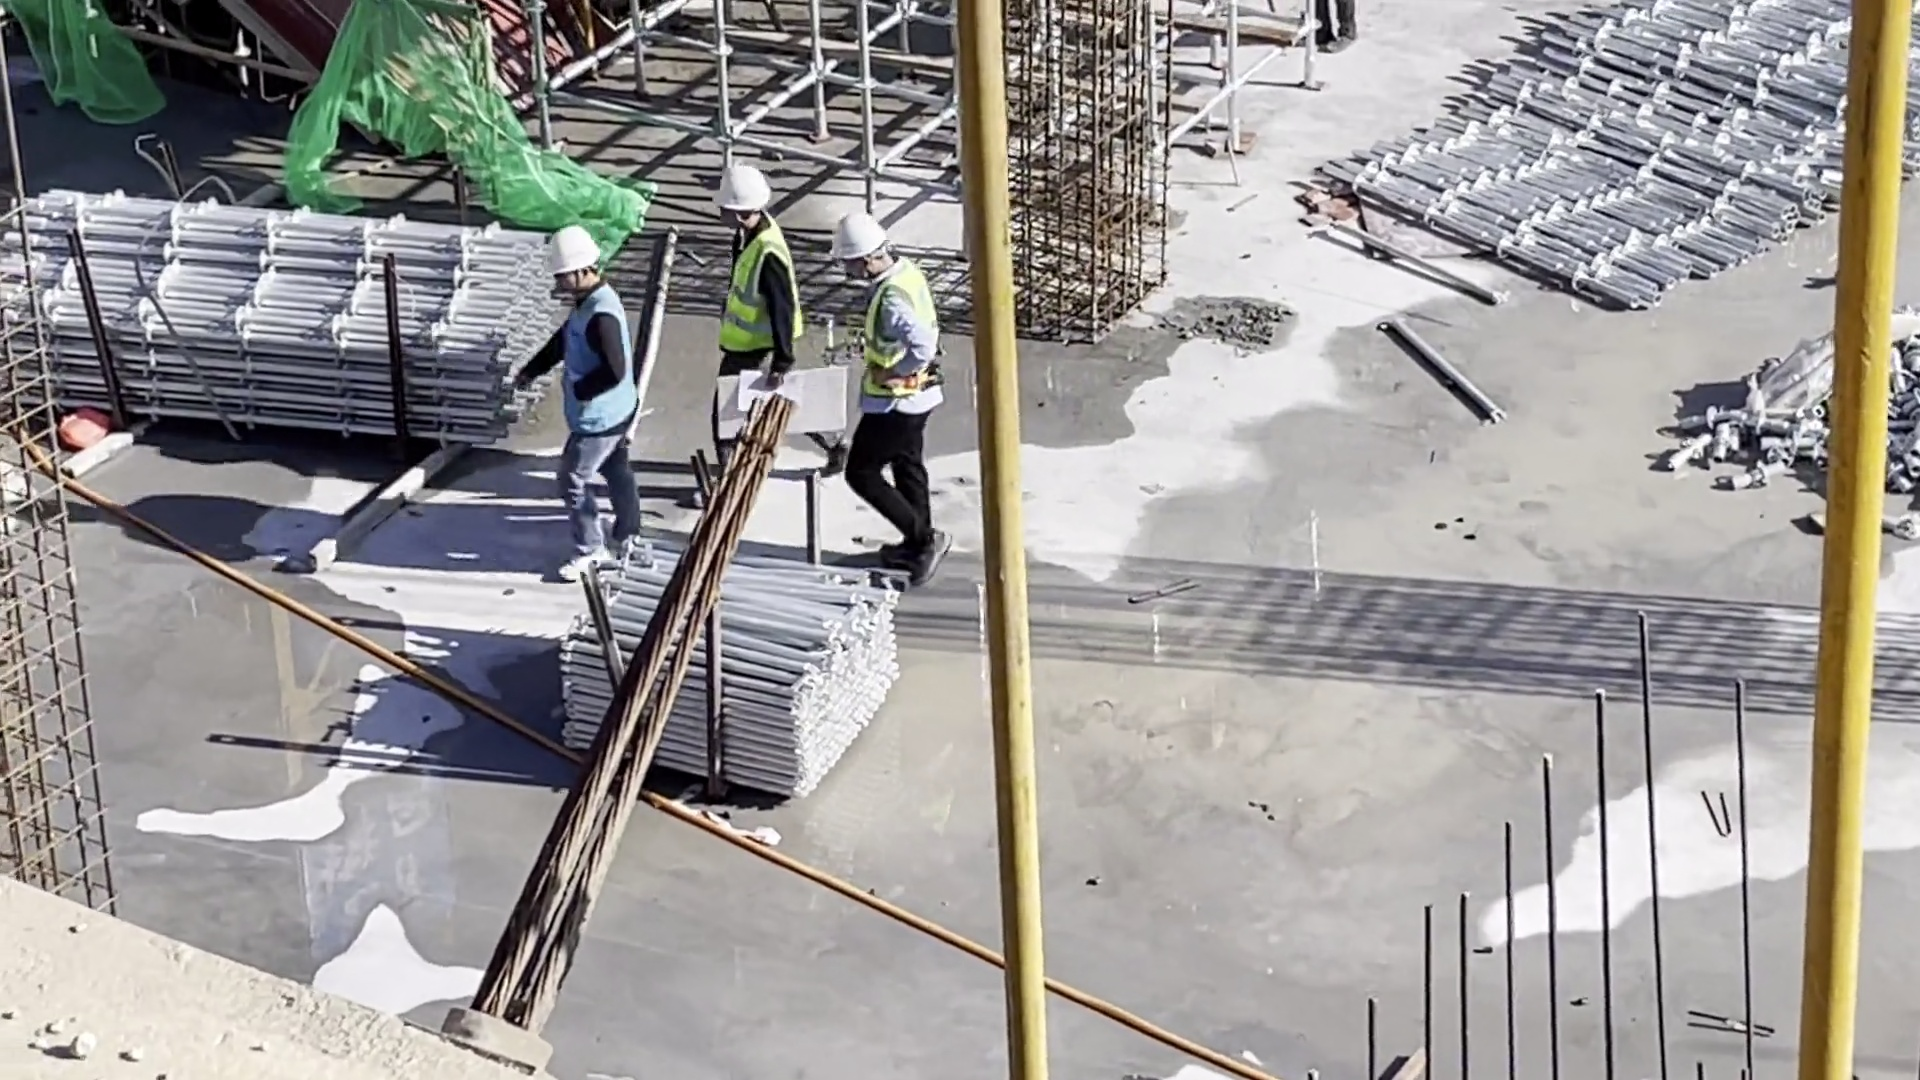helmet: (542, 225, 601, 277), (711, 166, 770, 210), (831, 214, 885, 258)
person: (690, 158, 848, 516), (501, 221, 651, 583), (830, 206, 954, 591)
scaffold: (1, 191, 568, 446), (564, 556, 894, 798)
vest: (565, 290, 640, 437), (721, 219, 801, 356), (862, 270, 942, 405)
